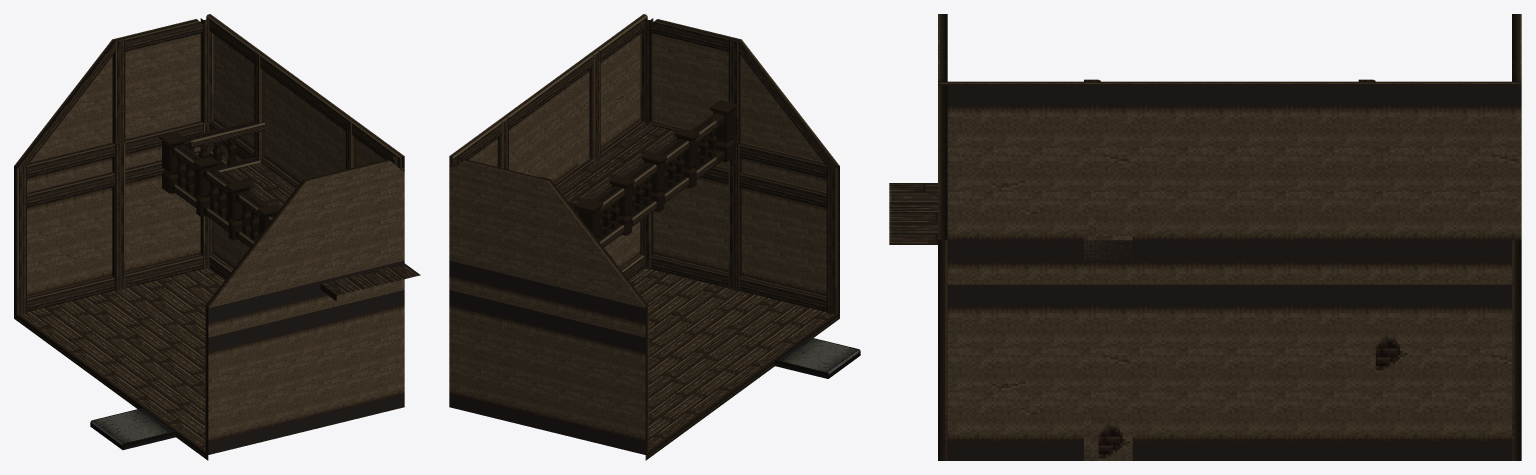
File: EnvBdgMD_City_A_Indoor_SB_B.FBX
3 views of the same model, side by side, from view 1: azimuth 30°, elevation 25°; view 2: azimuth 150°, elevation 25°; view 3: azimuth 270°, elevation 25° (orthographic). The views are drawn at different scales.
Parts seen in each view (by area): view 1: EnvBdgMD_City_A_Indoor_SB_B; view 2: EnvBdgMD_City_A_Indoor_SB_B; view 3: EnvBdgMD_City_A_Indoor_SB_B.
Part boxes in pixels (box(x1,y1,x2,y2)): EnvBdgMD_City_A_Indoor_SB_B: box(14, 14, 420, 460); EnvBdgMD_City_A_Indoor_SB_B: box(449, 14, 860, 460); EnvBdgMD_City_A_Indoor_SB_B: box(889, 14, 1521, 460).
Size of the model in its own units: 890 by 875 by 1300.
